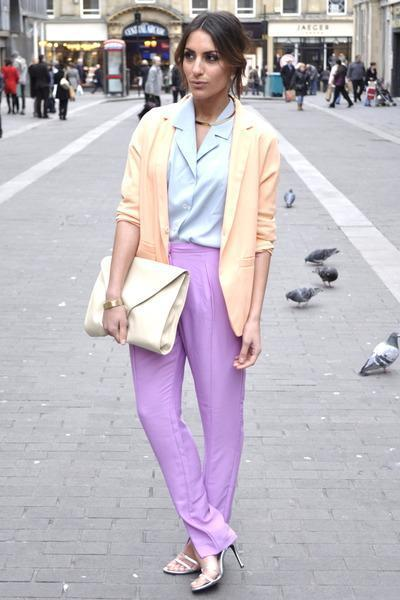bag: (84, 256, 191, 347)
jacket: (116, 99, 283, 317)
pants: (127, 243, 251, 558)
shirt: (161, 93, 236, 247)
shoe: (154, 544, 243, 587)
